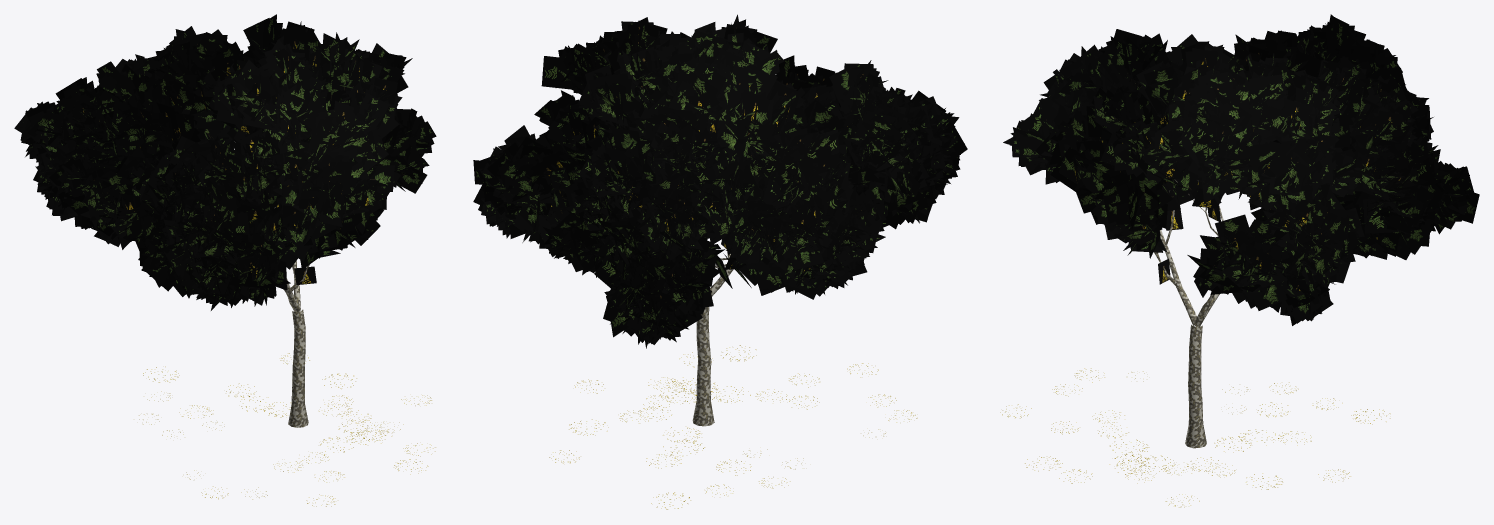
The model's file is pau_ferro_2anos.glb.
The picture shows the model from 3 angles, left to right: view 1: azimuth 30°, elevation 25°; view 2: azimuth 150°, elevation 25°; view 3: azimuth 270°, elevation 25°; orthographic projection. The views are drawn at different scales.
Parts seen in each view (by area): view 1: Pau-ferro; view 2: Pau-ferro; view 3: Pau-ferro.
Part boxes in pixels (x1,y1,x2,y2): Pau-ferro: (14, 14, 436, 506); Pau-ferro: (473, 14, 967, 509); Pau-ferro: (1000, 14, 1479, 507).
Bounding box in the file's own units: 2.57 × 2.5 × 2.78.
3 materials, 3 textured.
